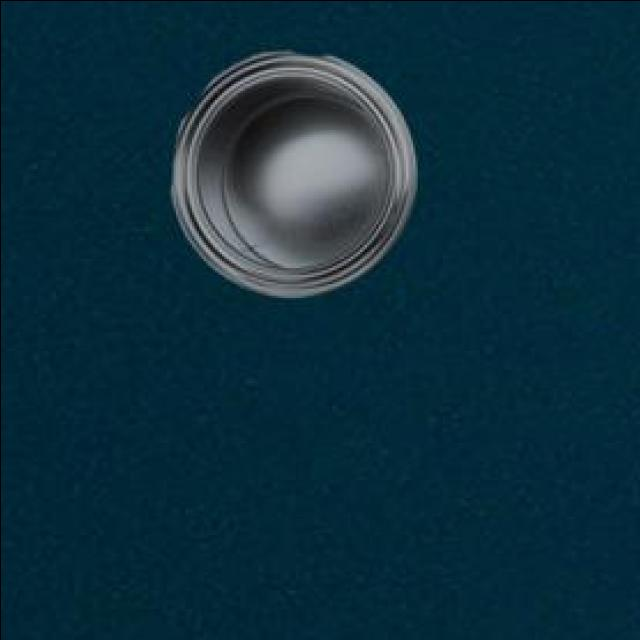logam: (174, 47, 418, 294)
